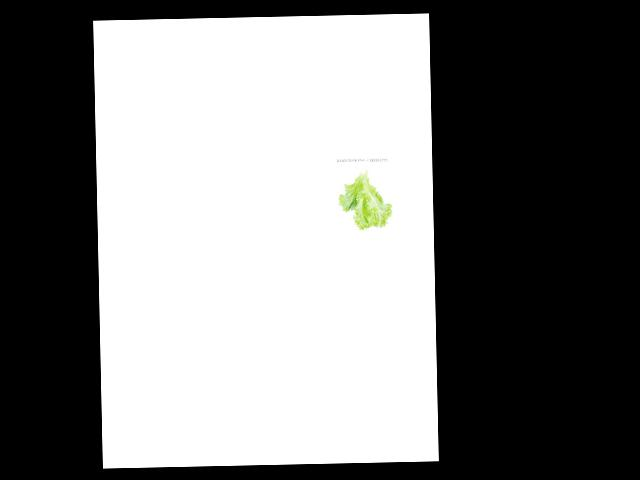lettuce: (336, 166, 392, 231)
